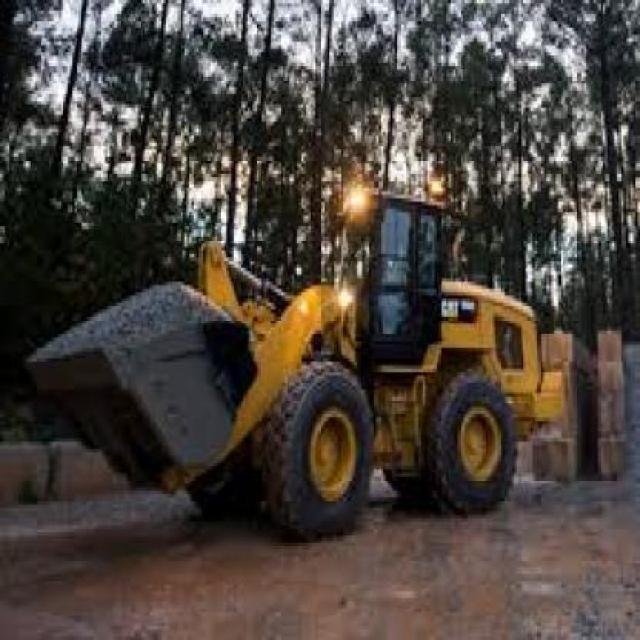buldozerpayloadergrader: (30, 166, 532, 540)
